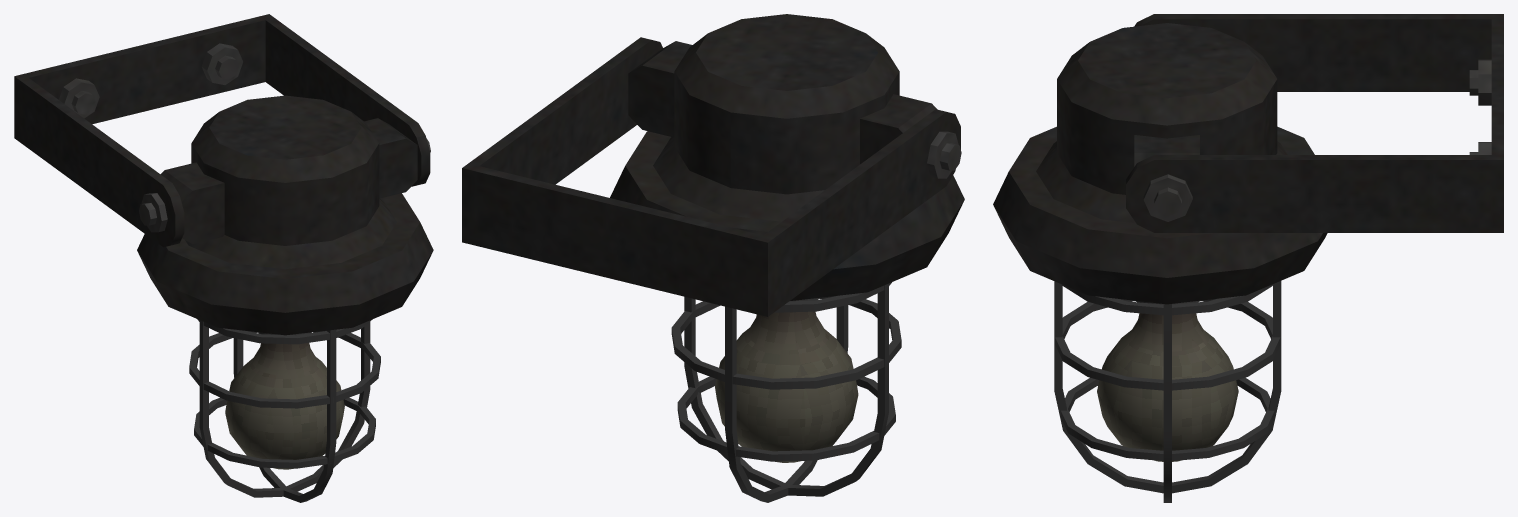
Rendered from lamp_mx_1_a_off.obj.
The picture shows the model from 3 angles, left to right: view 1: azimuth 30°, elevation 25°; view 2: azimuth 150°, elevation 25°; view 3: azimuth 270°, elevation 25°; orthographic projection. The views are drawn at different scales.
Visible parts, largest first — view 1: lamp_mx_1_a_off; view 2: lamp_mx_1_a_off; view 3: lamp_mx_1_a_off.
Part boxes in pixels (left/top/right/bottom): lamp_mx_1_a_off: left=14, top=14, right=433, bottom=502; lamp_mx_1_a_off: left=462, top=14, right=964, bottom=502; lamp_mx_1_a_off: left=993, top=14, right=1503, bottom=502.
Bounding box in the file's own units: 0.1876 × 0.2352 × 0.2522.
